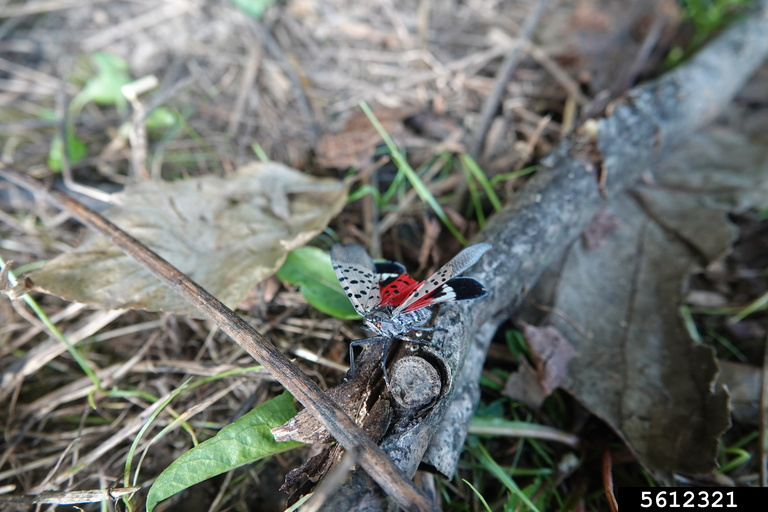adult: (319, 239, 507, 385)
